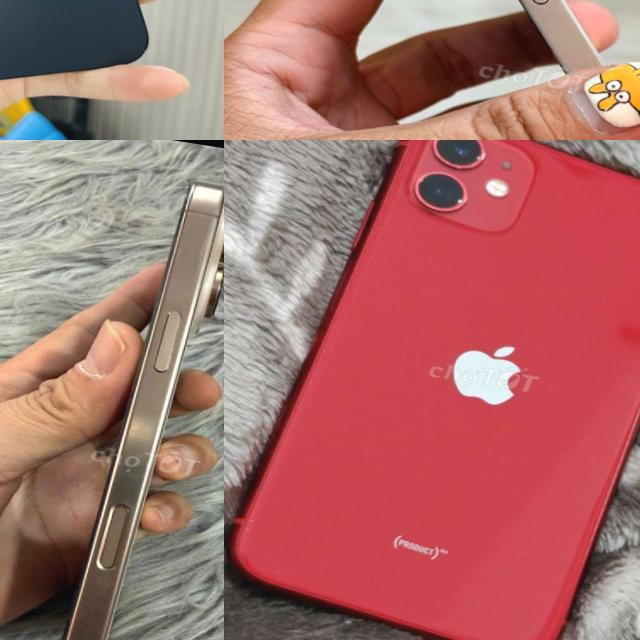gen_11: (224, 140, 640, 640)
gen_14: (310, 0, 640, 140)
gen_15: (0, 0, 220, 124)
gen_16: (62, 181, 224, 640)
